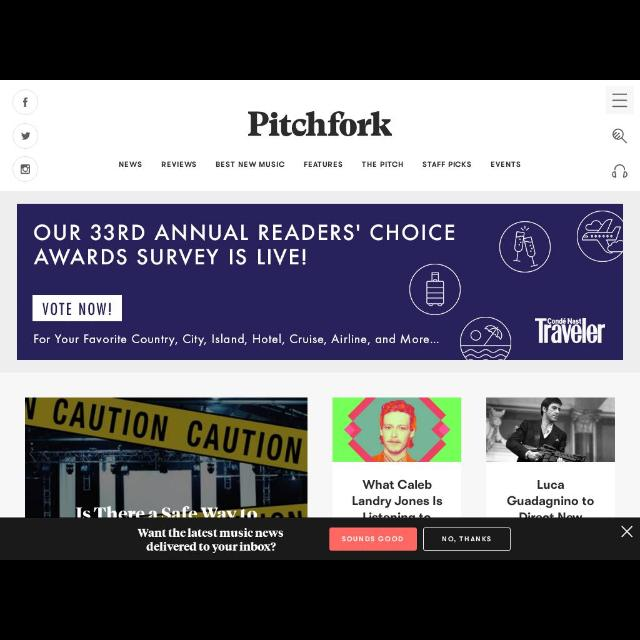backgroundimage: (16, 204, 624, 360)
button: (606, 86, 634, 114), (14, 89, 38, 115), (12, 124, 38, 148), (14, 158, 38, 182)
icon: (611, 92, 629, 108), (612, 128, 628, 144), (612, 164, 628, 178), (620, 524, 634, 538), (20, 164, 30, 176), (21, 132, 31, 142), (22, 96, 28, 108)
iframe: (1, 518, 640, 558)
image: (25, 398, 307, 518), (332, 398, 462, 462), (486, 398, 616, 462), (248, 110, 394, 138), (534, 316, 606, 346)
text: (32, 223, 456, 264), (33, 334, 440, 348), (137, 526, 283, 554), (352, 480, 443, 518), (508, 480, 594, 518), (75, 507, 258, 518), (41, 302, 113, 316), (214, 160, 286, 168), (342, 535, 404, 543), (440, 535, 492, 543), (422, 161, 472, 169), (303, 160, 343, 168), (160, 161, 198, 169), (362, 162, 404, 168), (491, 161, 522, 169), (119, 161, 143, 169)
textbutton: (32, 294, 122, 322), (423, 527, 511, 551), (328, 528, 418, 550)
toolbar: (1, 80, 640, 190)
